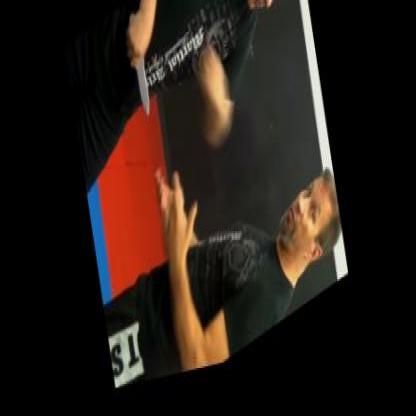knife: (121, 7, 157, 135)
